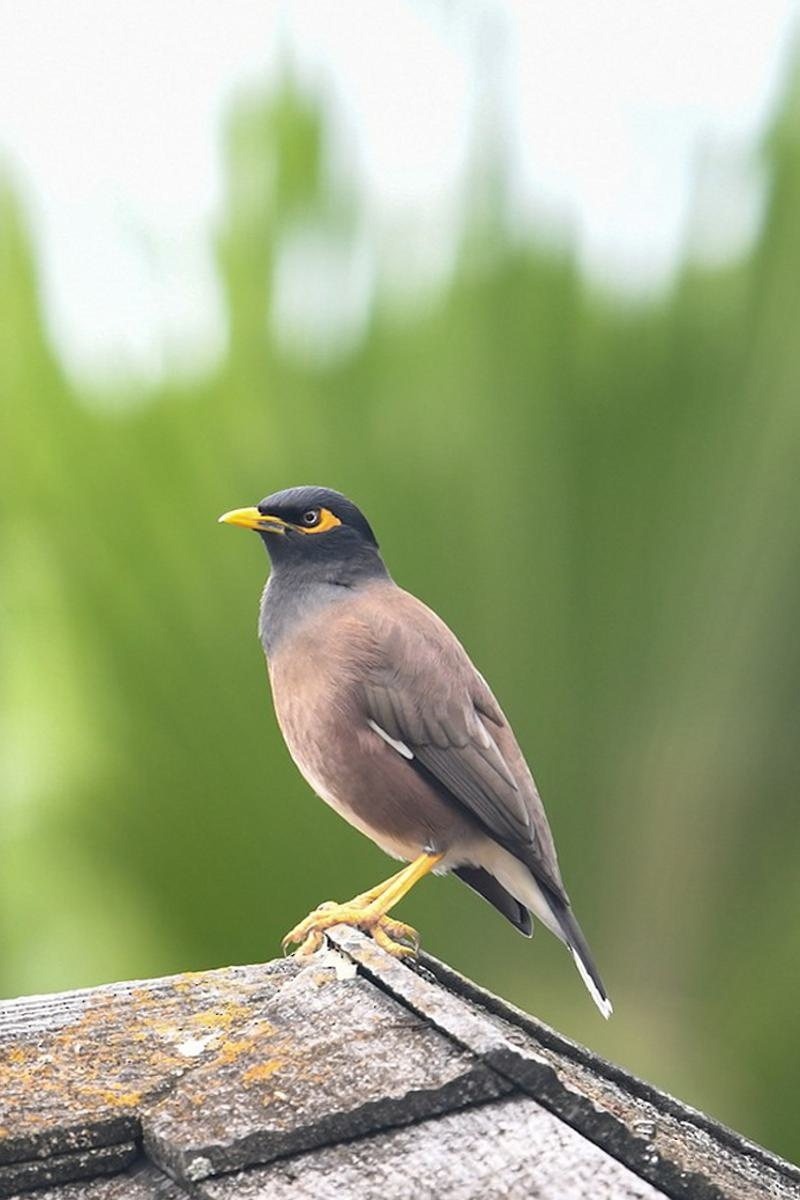myna: (207, 415, 601, 1046)
